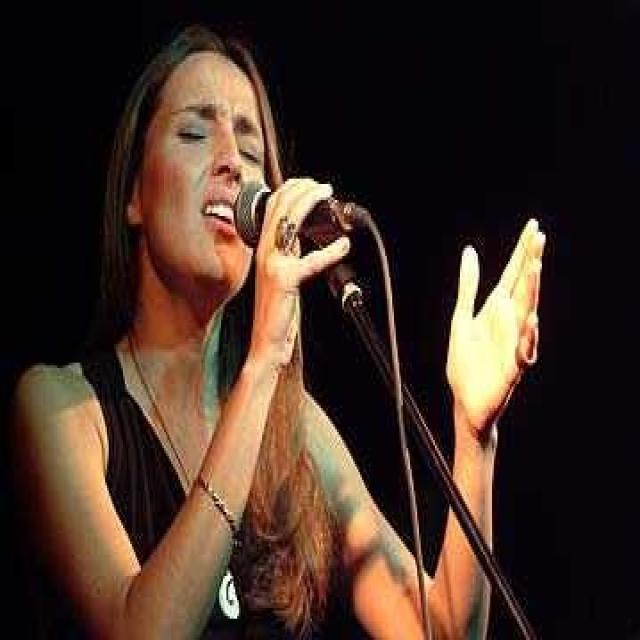microphone: (234, 177, 381, 283)
